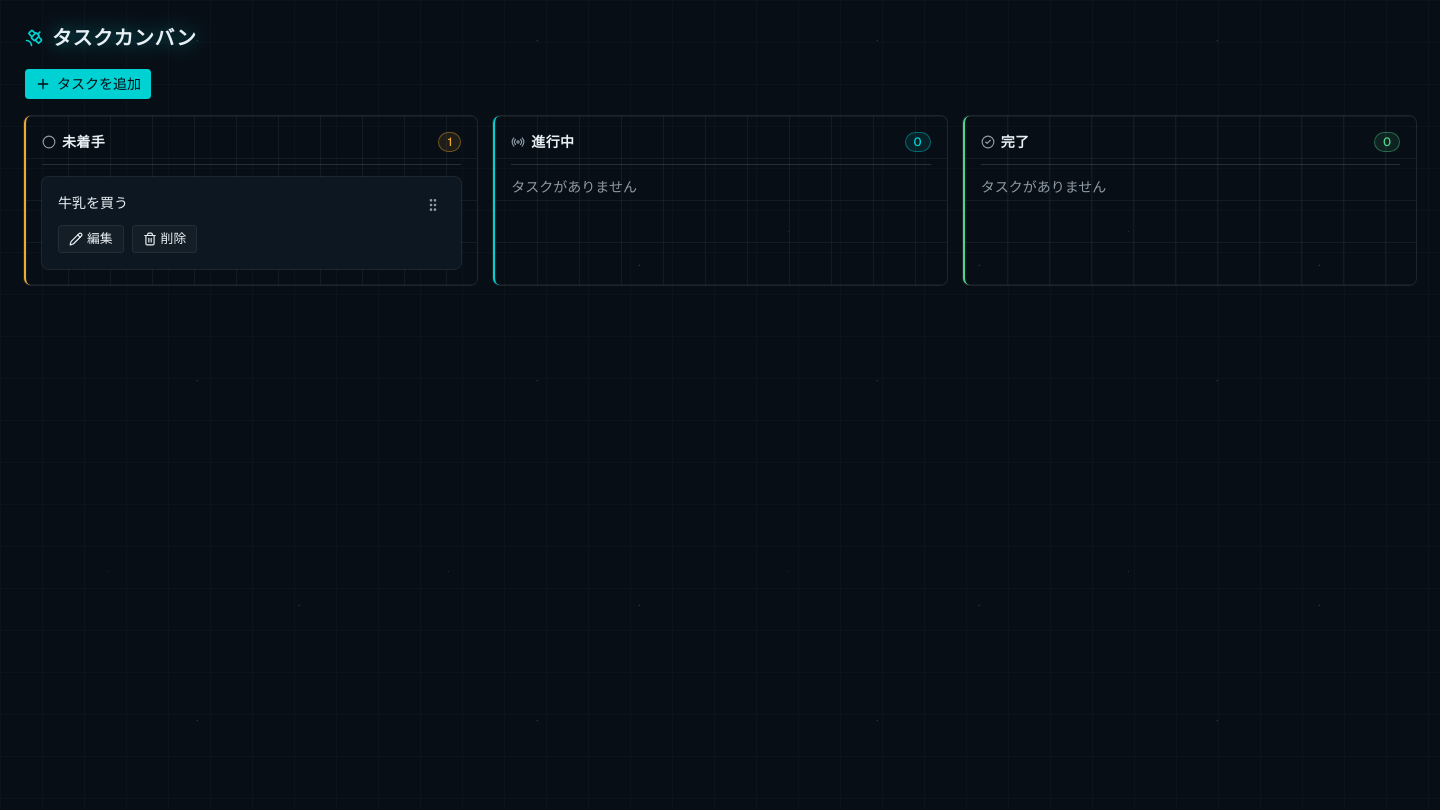
Scenario: タスクの編集 › 編集ボタンを押すと編集フォームが表示される
Expected: the text "牛乳を買う" is shown, left=58, top=193, right=128, bottom=213
Click the button "編集" at (91, 239), box left=58, top=225, right=124, bottom=253
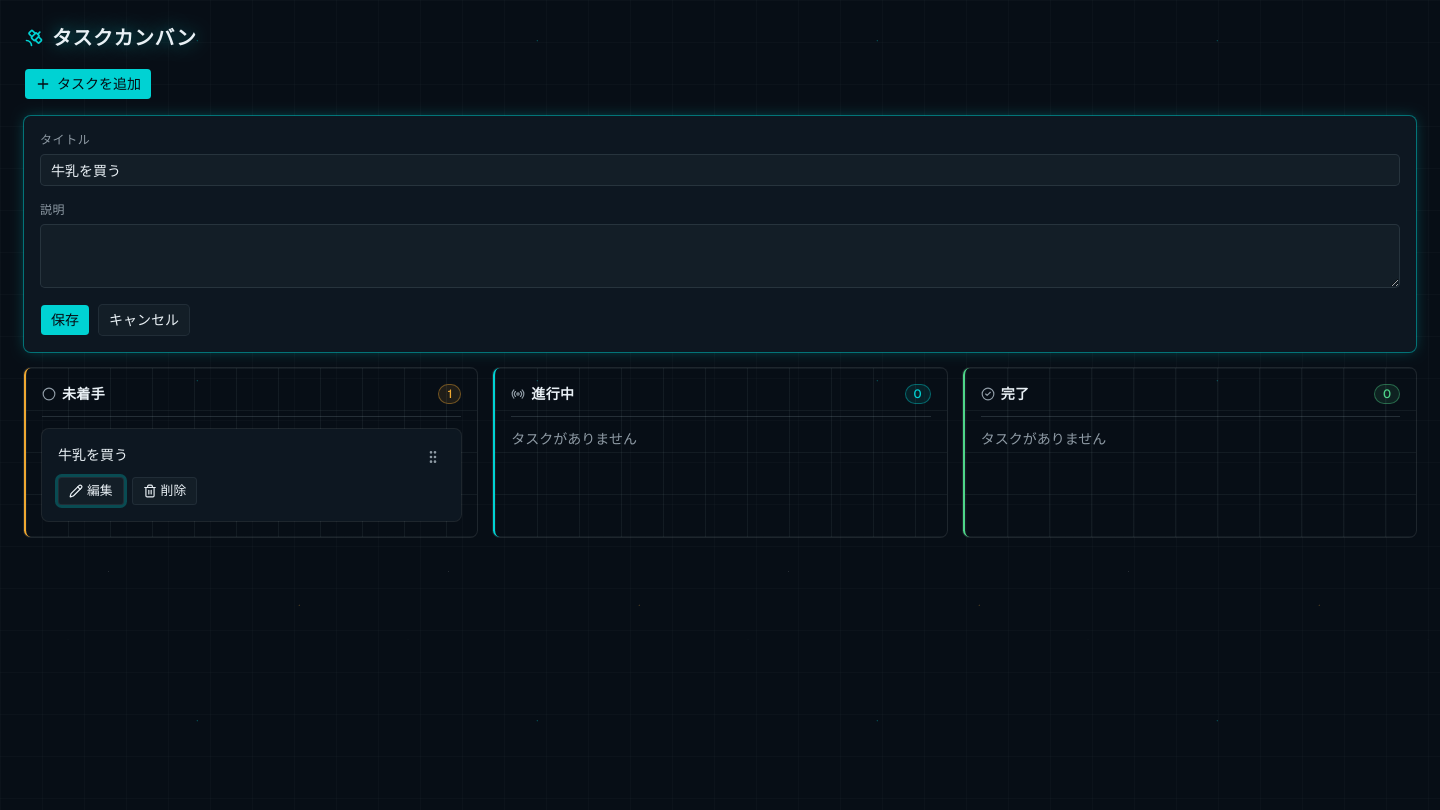
Expected: the button "保存" is shown, left=40, top=304, right=90, bottom=336
Expected: the field labelled "タイトル" holds "牛乳を買う", left=40, top=154, right=1400, bottom=186
